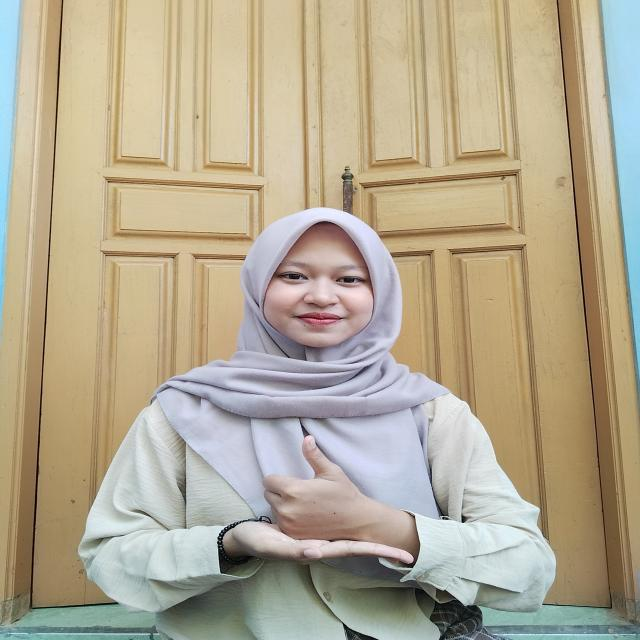cantik: (207, 430, 428, 598)
